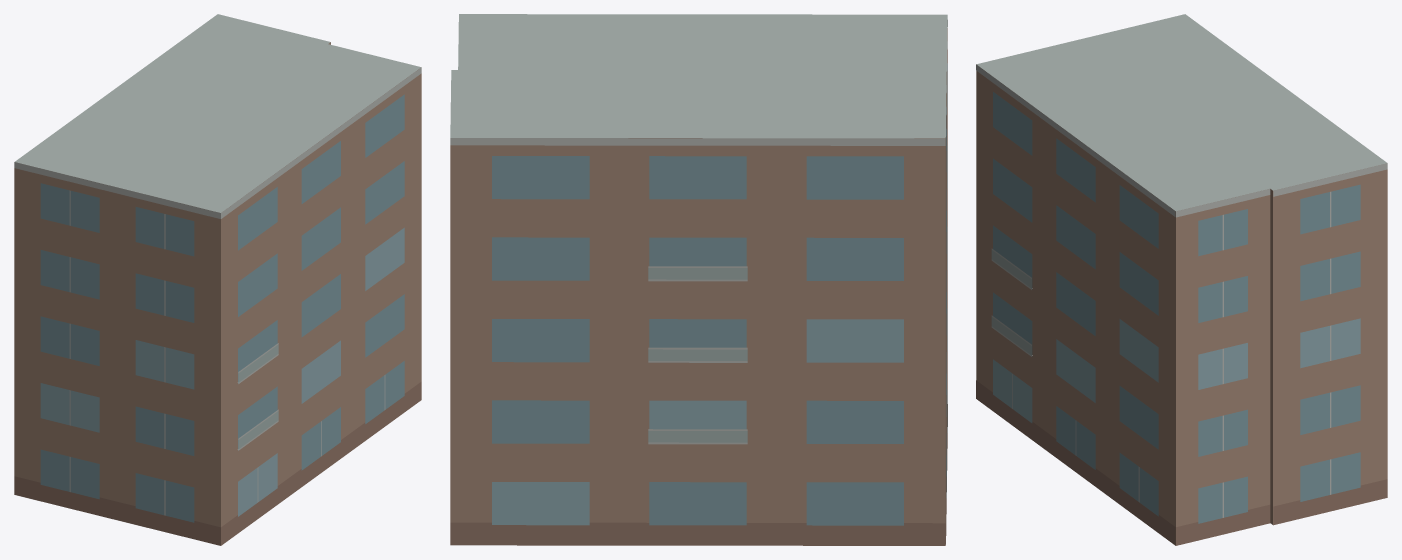
Rendered from survey-upis-32741011.glb.
3 views of the same model, side by side, from view 1: azimuth 30°, elevation 25°; view 2: azimuth 150°, elevation 25°; view 3: azimuth 270°, elevation 25° (orthographic). The views are drawn at different scales.
Parts seen in each view (by area): view 1: survey-upis-32741011.tmp; view 2: survey-upis-32741011.tmp; view 3: survey-upis-32741011.tmp.
Part boxes in pixels (<box>): survey-upis-32741011.tmp: <box>14,14,421,545</box>; survey-upis-32741011.tmp: <box>450,14,947,545</box>; survey-upis-32741011.tmp: <box>976,14,1387,545</box>.
Size of the model in its own units: 16.66 by 13.16 by 14.68.
